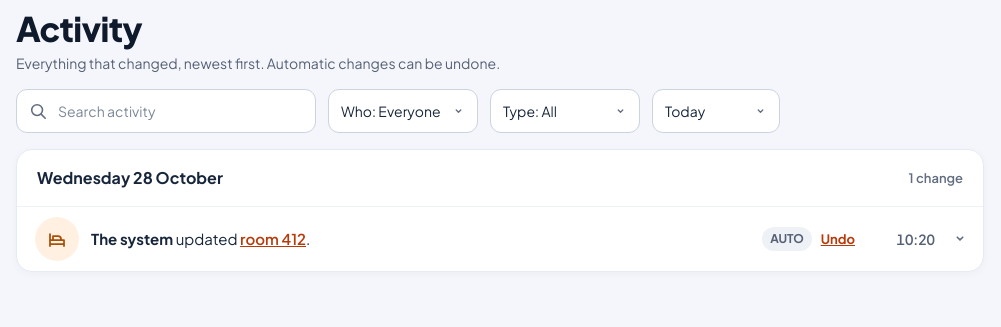
Test: ActivityScreen › opens and closes the field changes of a record
Expected: the text "1 change" is shown, [908,168,963,188]
Click the button named "Show changes": (956, 239) [947,226,965,252]
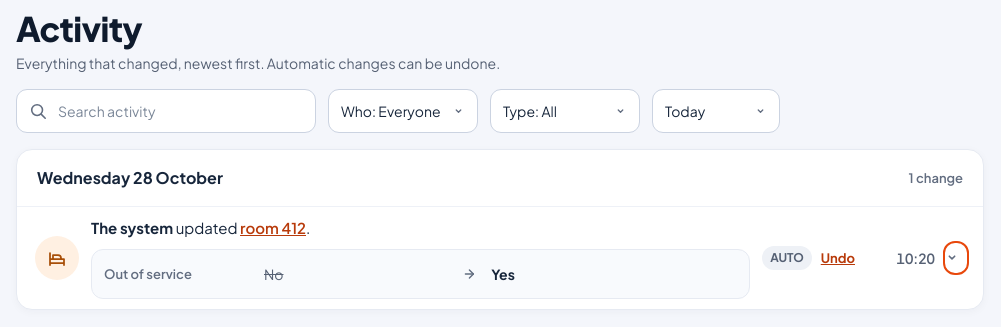
Result: the text "Out of service" is shown at [104,266,192,282]
Click the button named "Hide changes": (956, 258) [947,245,965,271]
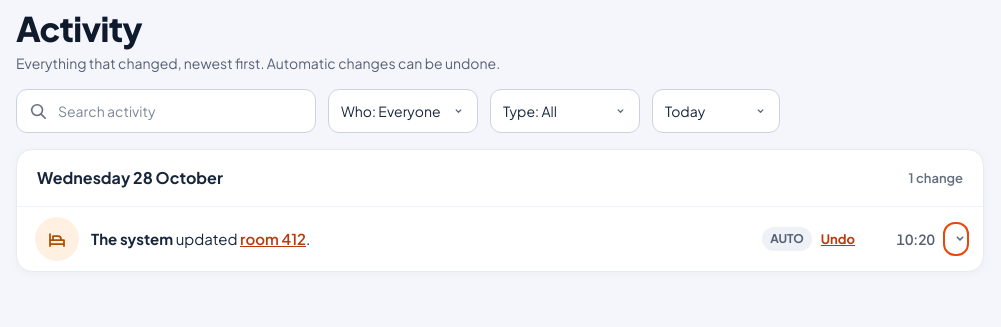
Result: the text "Out of service" is gone
